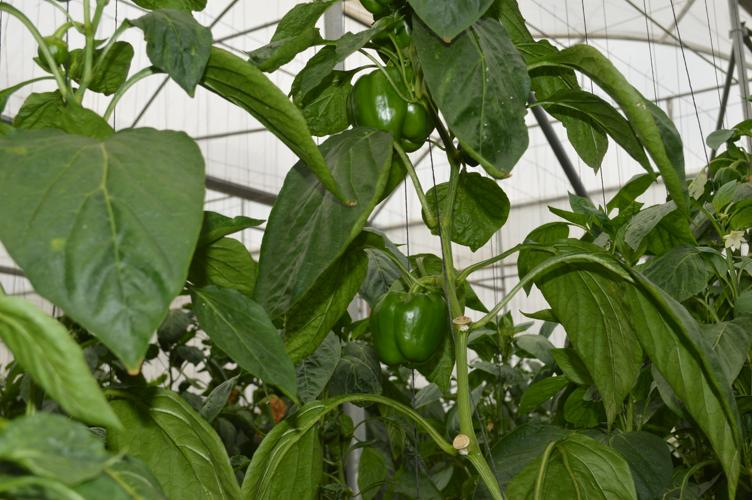BellPepper: (364, 268, 462, 386), (336, 55, 431, 151)
